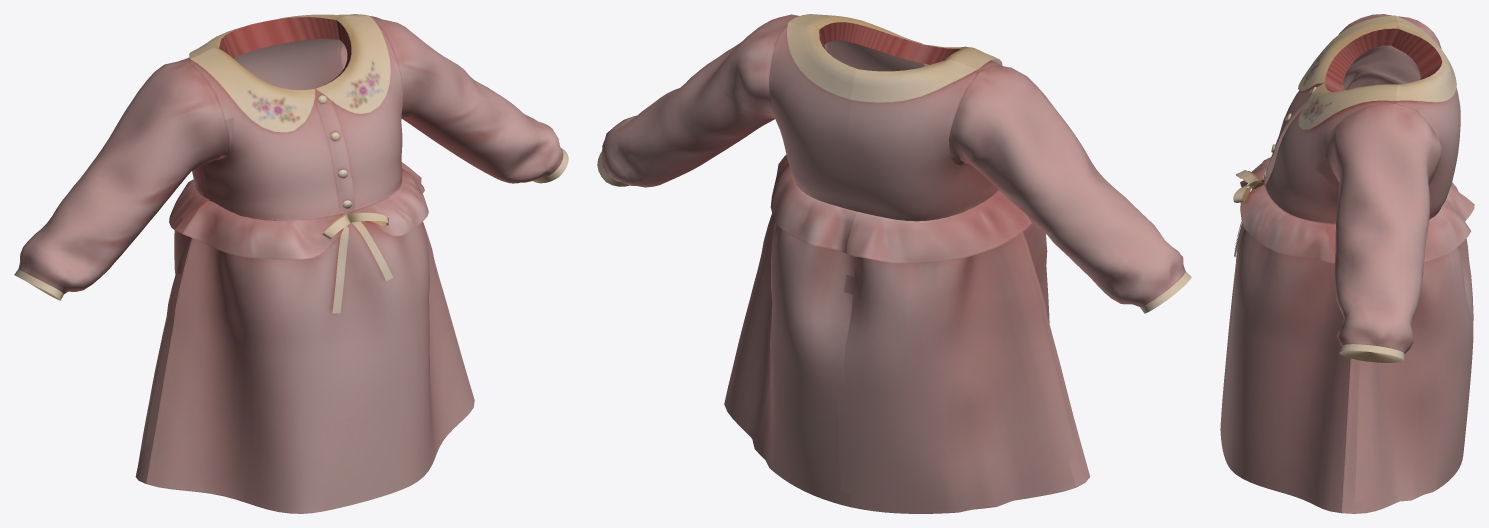
Rendered from dress1.glb.
3 views of the same model, side by side, from view 1: azimuth 30°, elevation 25°; view 2: azimuth 150°, elevation 25°; view 3: azimuth 270°, elevation 25° (orthographic). The views are drawn at different scales.
Parts seen in each view (by area): view 1: s4studio_mesh_2; view 2: s4studio_mesh_2; view 3: s4studio_mesh_2.
Boxes of the visible parts, x1,y1,x2,y2 form: s4studio_mesh_2: (14,14,568,513); s4studio_mesh_2: (597,14,1191,513); s4studio_mesh_2: (1220,14,1474,513).
Bounding box in the file's own units: 0.4516 × 0.3269 × 0.1885.
1 material, 1 textured.
